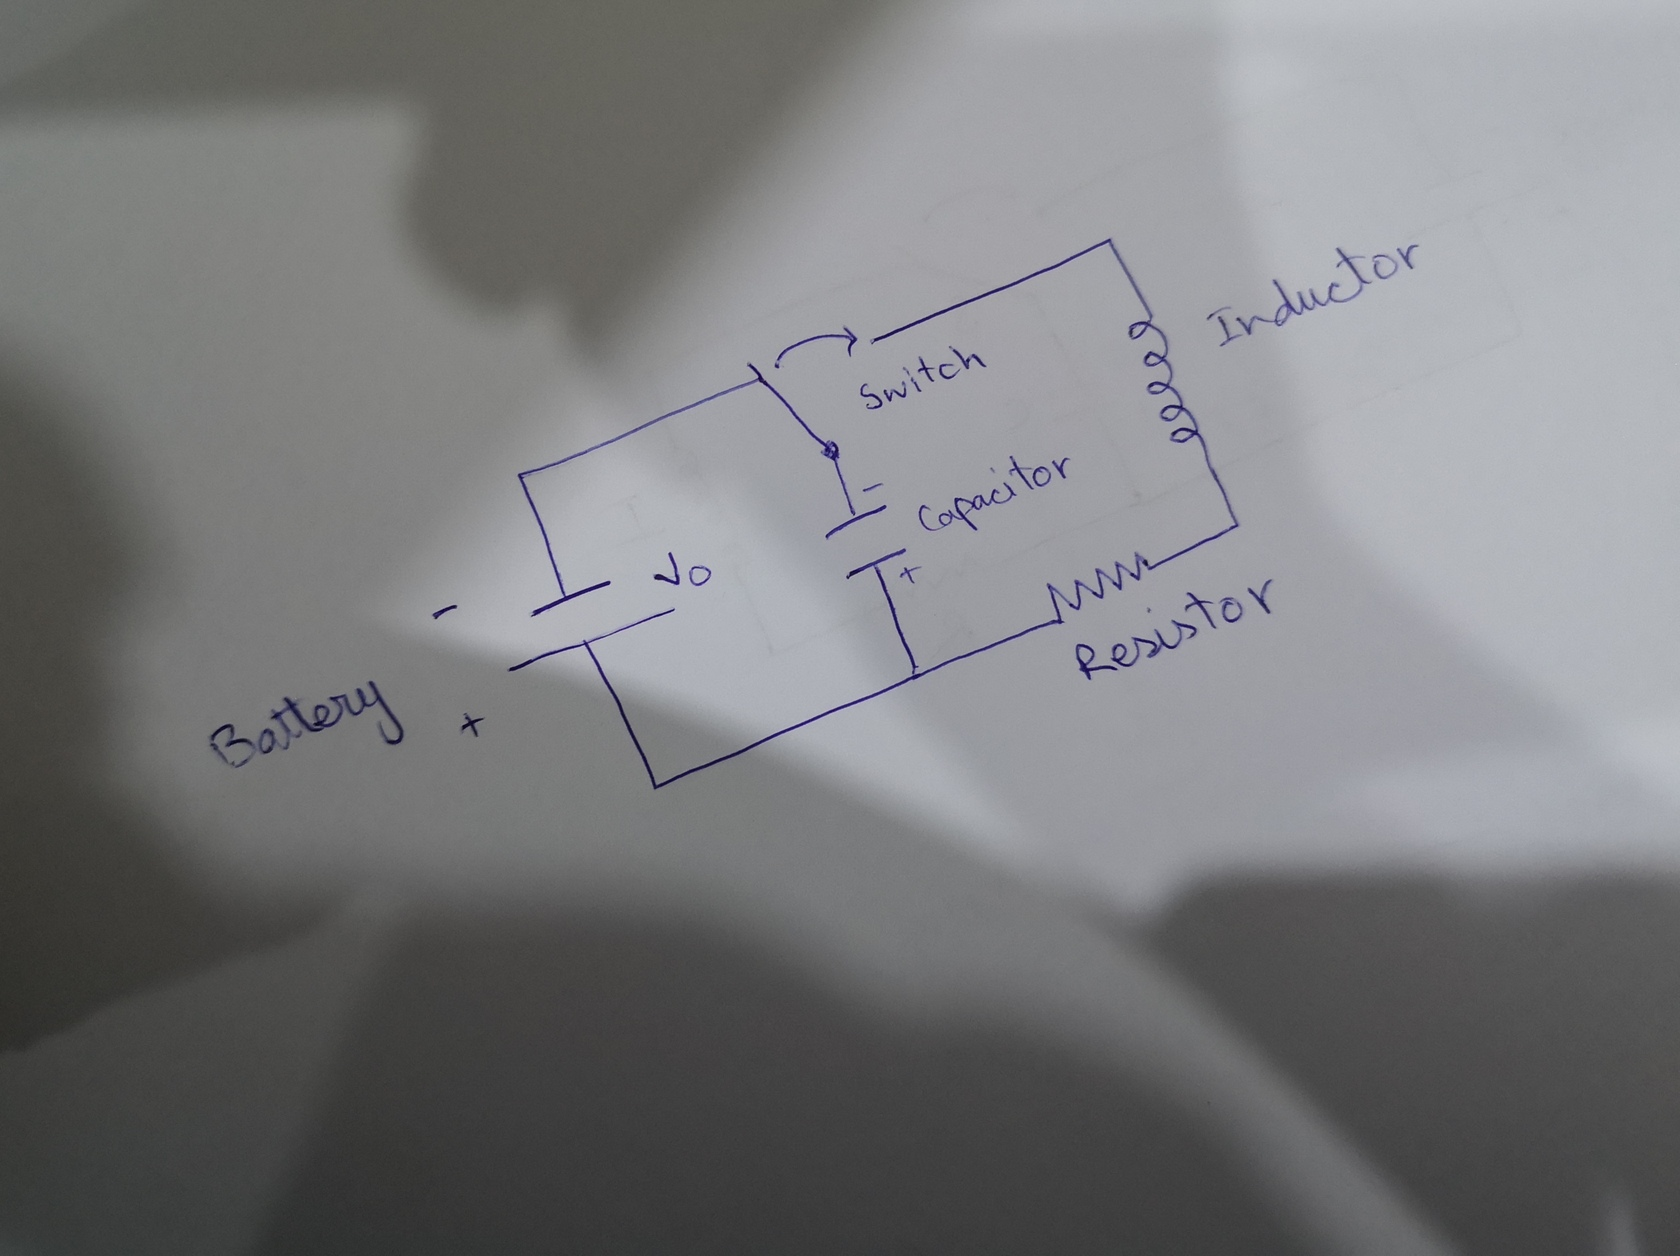capacitor.polarized: (815, 478, 924, 587)
inductor: (1125, 314, 1203, 445)
junction: (895, 648, 935, 695), (633, 760, 675, 803), (1218, 509, 1253, 544), (508, 462, 539, 493), (1095, 230, 1122, 257)
resistor: (1043, 548, 1155, 627)
switch: (742, 309, 876, 464)
text: (1203, 239, 1436, 350), (1069, 571, 1278, 686), (193, 672, 409, 772), (915, 450, 1073, 536), (857, 342, 990, 413), (651, 551, 716, 588)
voltage.dc: (504, 575, 678, 673)
